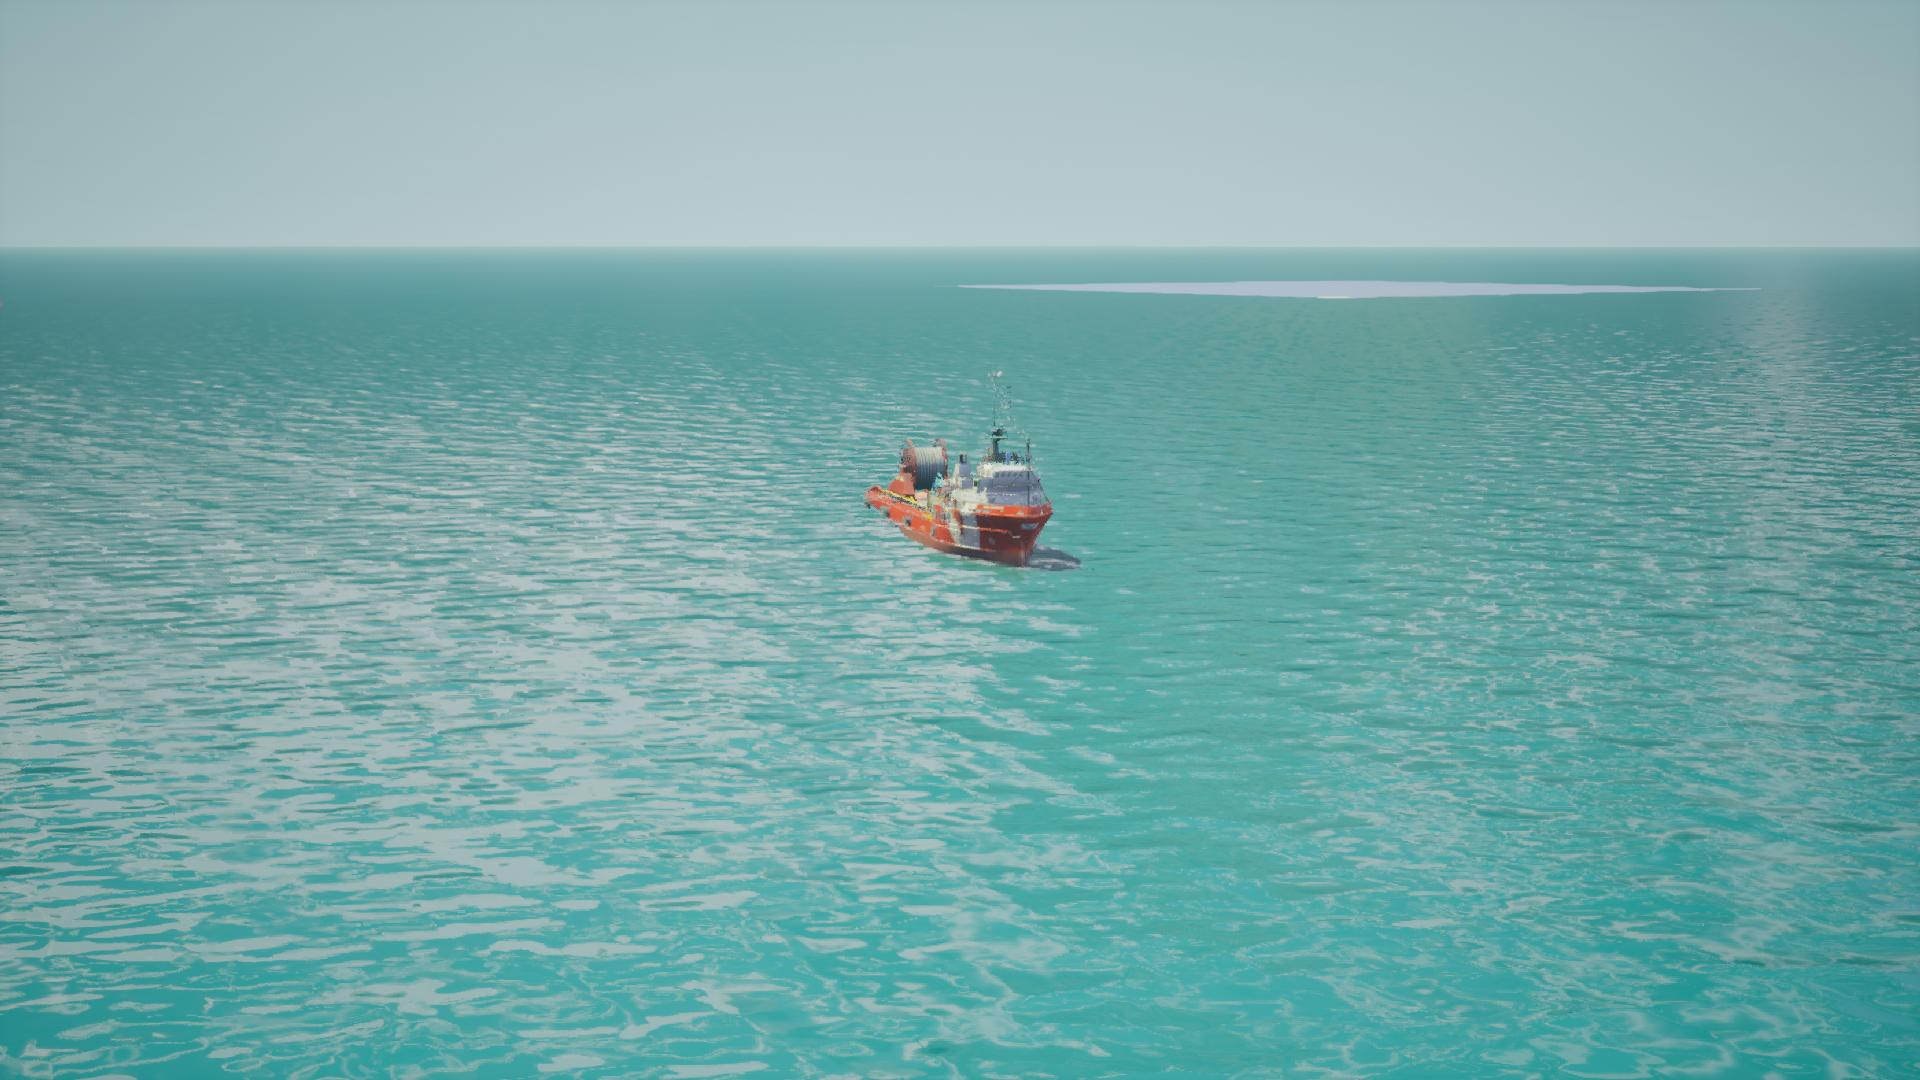Tug Boat: (869, 371, 1067, 572)
